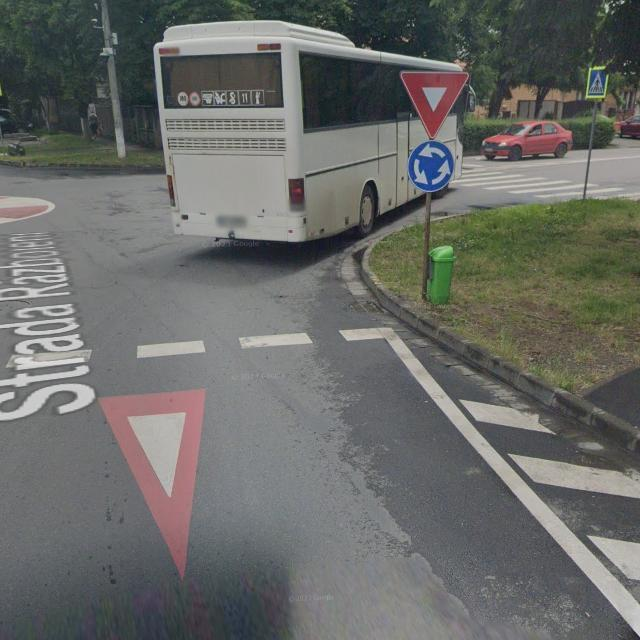info_crosswalk: (586, 68, 608, 100)
prio_give_way: (98, 387, 209, 582), (399, 70, 469, 139)
